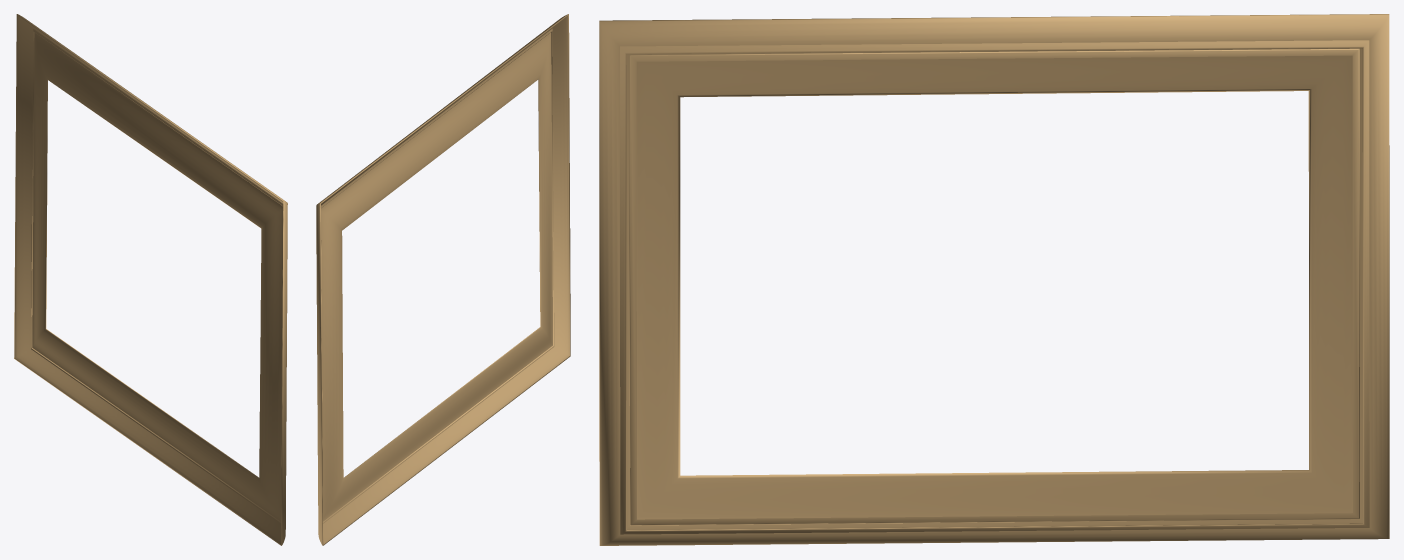
The model's file is Bilderrahmen.fbx.
3 views of the same model, side by side, from view 1: azimuth 30°, elevation 25°; view 2: azimuth 150°, elevation 25°; view 3: azimuth 270°, elevation 25° (orthographic). The views are drawn at different scales.
Parts seen in each view (by area): view 1: BezierCircle; view 2: BezierCircle; view 3: BezierCircle.
Boxes of the visible parts, bbox=[...] form: BezierCircle: bbox=[14, 14, 287, 545]; BezierCircle: bbox=[316, 14, 570, 545]; BezierCircle: bbox=[599, 14, 1389, 545].
Bounding box in the file's own units: 11.56 × 163 × 222.
